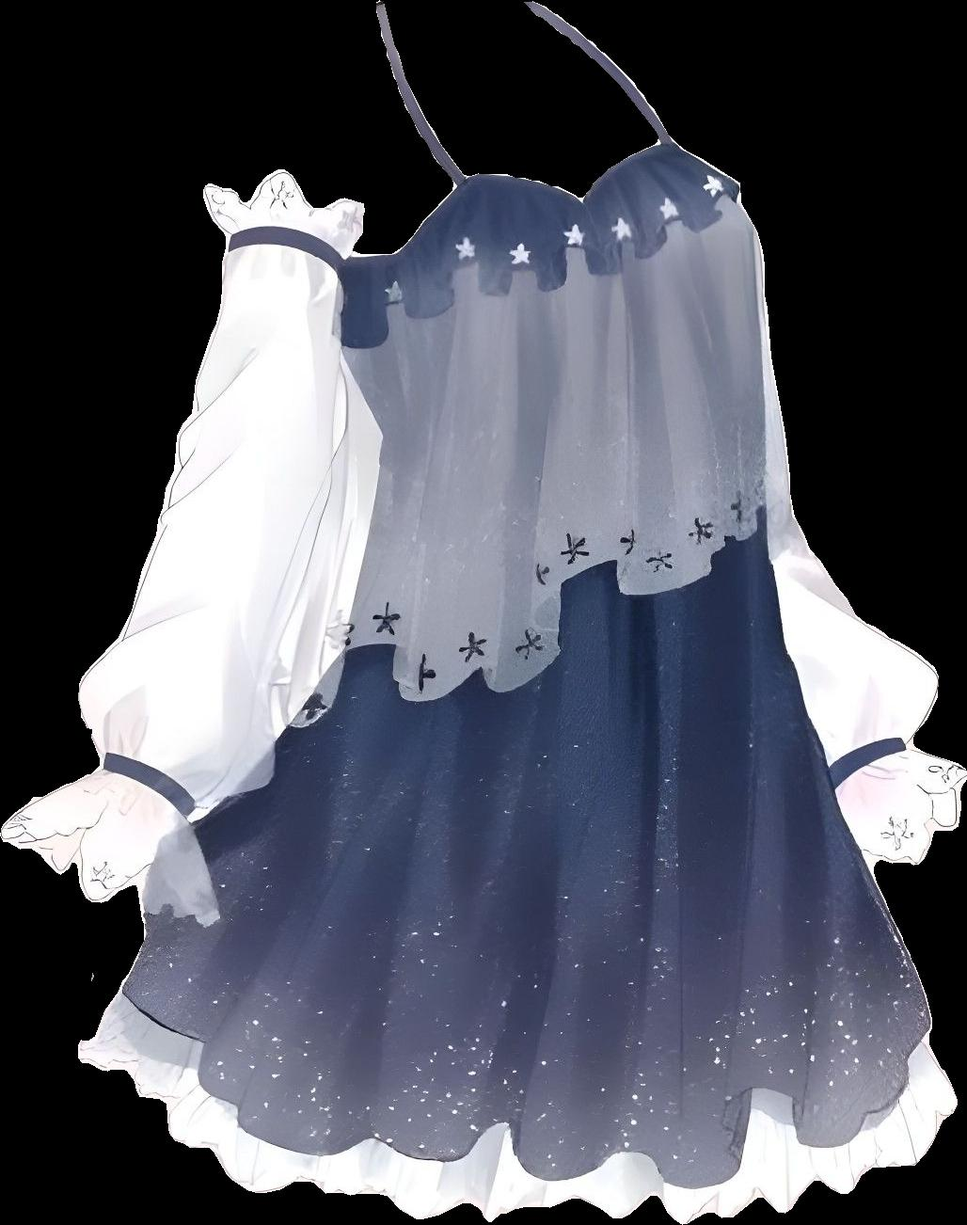Bodice: (338, 0, 770, 552)
Hemline: (110, 981, 933, 1191), (71, 1044, 961, 1224)
Neckline: (374, 0, 672, 208)
Skirt: (77, 525, 957, 1223)
Sleeve: (0, 169, 364, 927)
Sleeveline: (96, 753, 205, 823), (221, 231, 351, 281), (331, 237, 365, 357)
Waistline: (343, 184, 741, 355)
